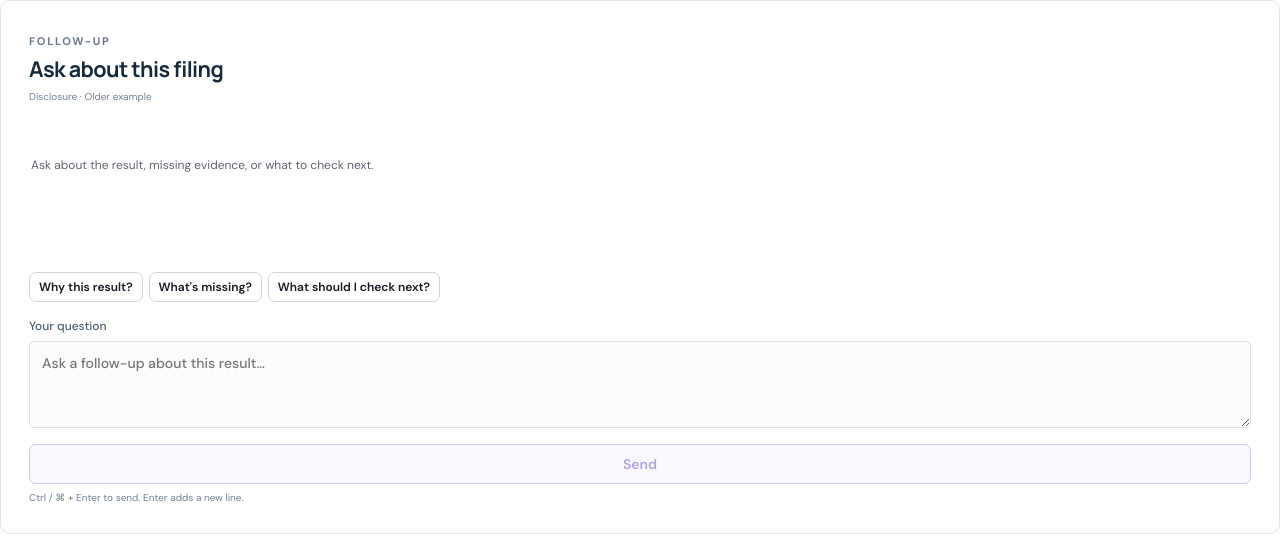
Test: Ctrl Enter sends once, locks the composer while pending, and plain Enter does not send
Type "Which condition did not hold?" into the text box at [640, 384], box top-left (29, 341), bottom-right (1251, 428)
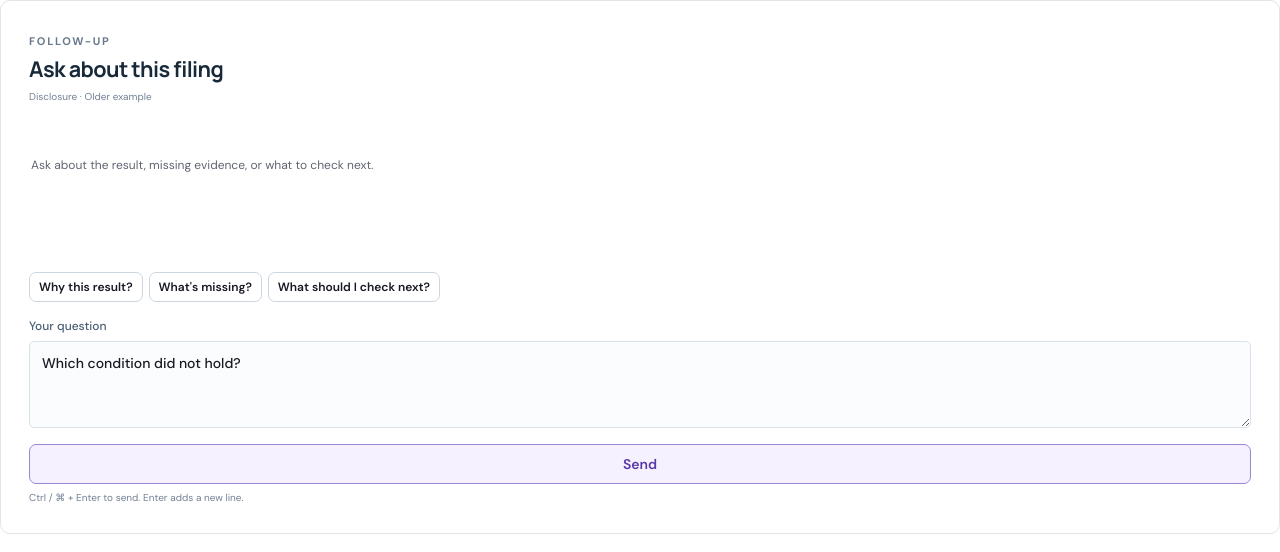
Press Enter in the text box, box top-left (29, 341), bottom-right (1251, 428)
Press Enter in the text box, box top-left (29, 341), bottom-right (1251, 428)
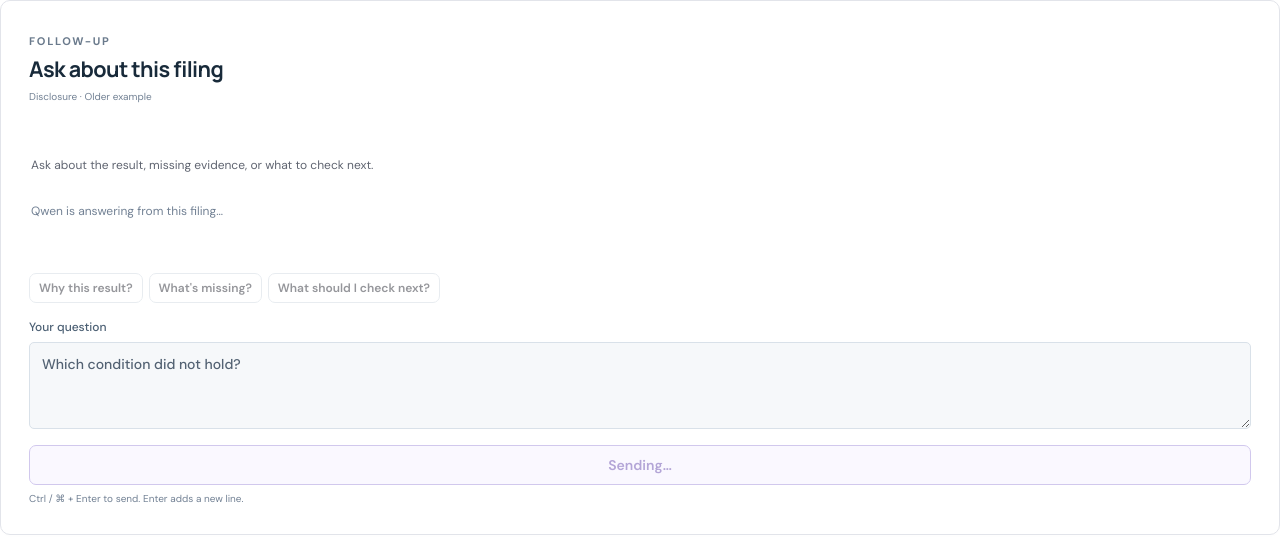
expect the text box is disabled: met
Press Enter in the text box, box top-left (29, 342), bottom-right (1251, 429)
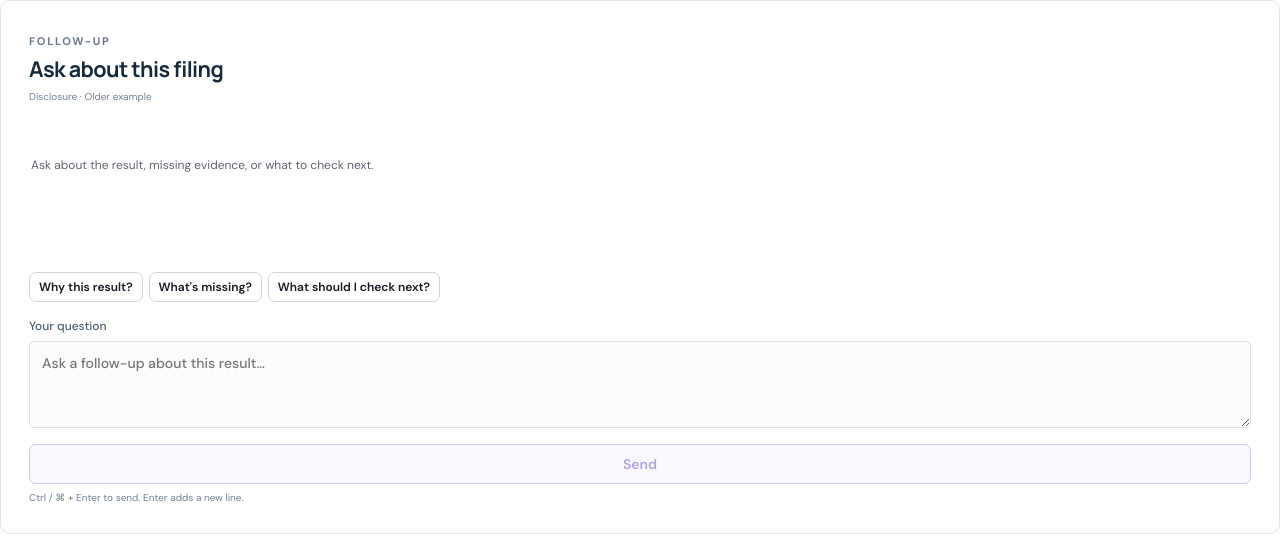
expect the text box is enabled: met, box top-left (29, 341), bottom-right (1251, 428)
expect the text box is empty: met, box top-left (29, 341), bottom-right (1251, 428)
